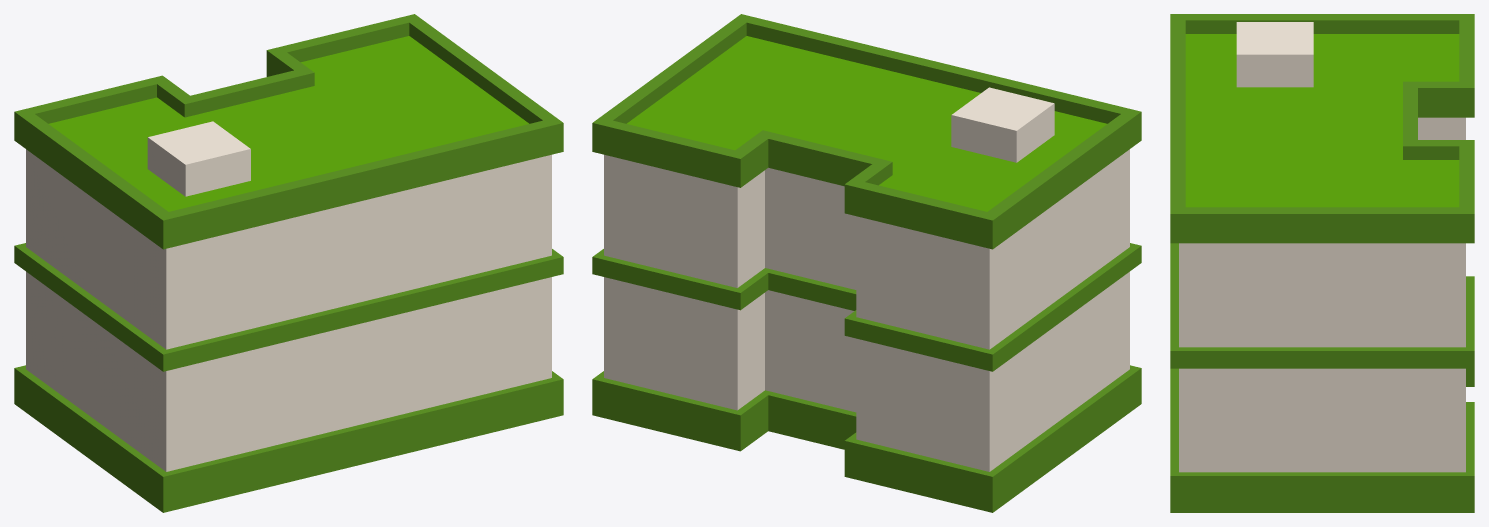
File: Map-Apart-G.fbx
3 views of the same model, side by side, from view 1: azimuth 30°, elevation 25°; view 2: azimuth 150°, elevation 25°; view 3: azimuth 270°, elevation 25° (orthographic). The views are drawn at different scales.
Parts seen in each view (by area): view 1: Map-Apart-G; view 2: Map-Apart-G; view 3: Map-Apart-G.
Part boxes in pixels (left/top/right/bottom): Map-Apart-G: left=14, top=14, right=563, bottom=512; Map-Apart-G: left=592, top=14, right=1141, bottom=512; Map-Apart-G: left=1170, top=14, right=1474, bottom=512.
Size of the model in its own units: 1.75 by 1.3 by 1.13.
